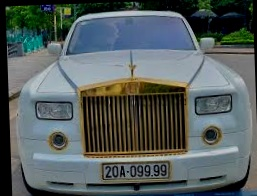Bien-so: (92, 159, 165, 183)
